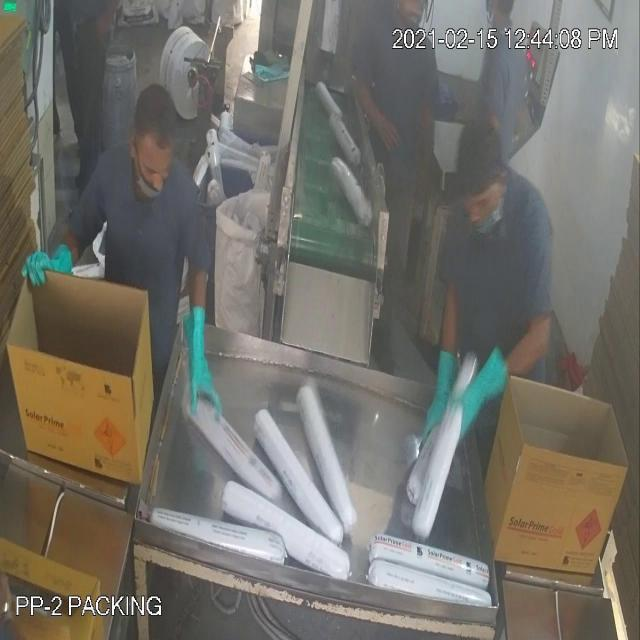No_Gloves: (21, 71, 484, 398)
